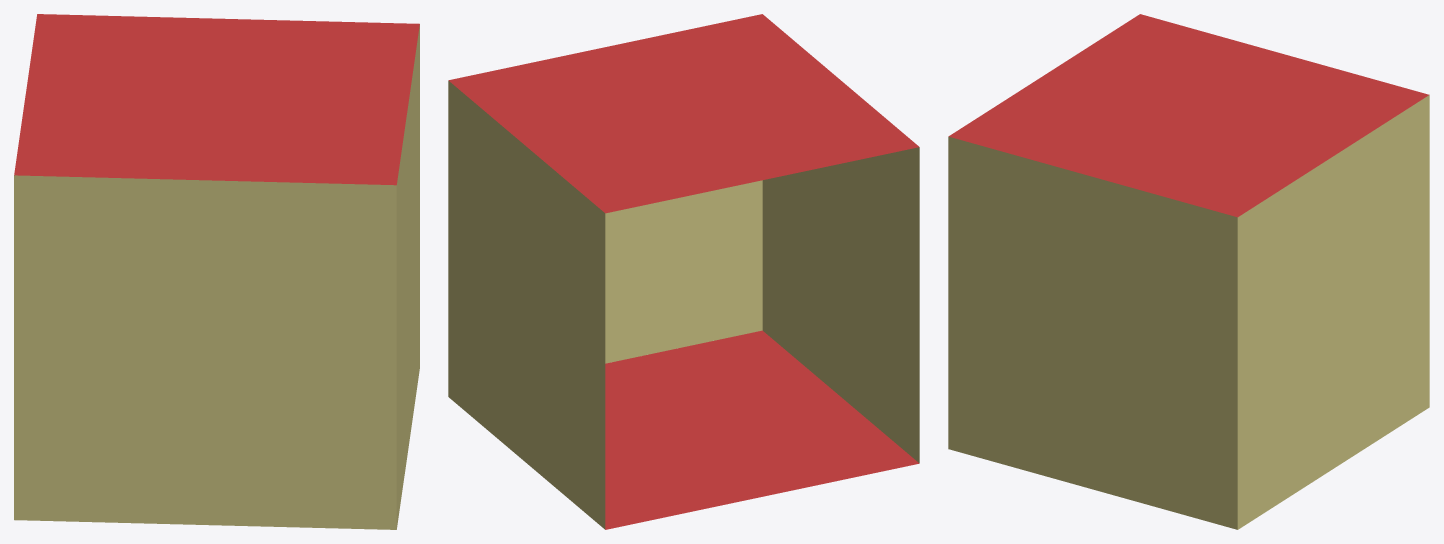
The picture shows the model from 3 angles, left to right: view 1: azimuth 30°, elevation 25°; view 2: azimuth 150°, elevation 25°; view 3: azimuth 270°, elevation 25°; orthographic projection. The views are drawn at different scales.
Visible parts, largest first — view 1: group_4, group_3; view 2: group_4, group_3, group_5; view 3: group_4, group_3.
Boxes of the visible parts, x1,y1,x2,y2 form: group_4: [14, 24, 419, 529]; group_3: [14, 14, 419, 185]; group_4: [448, 80, 919, 529]; group_3: [448, 14, 919, 213]; group_5: [605, 330, 919, 529]; group_4: [948, 95, 1429, 529]; group_3: [948, 14, 1429, 217].
Size of the model in its own units: 7.44 by 7.44 by 5.33.
